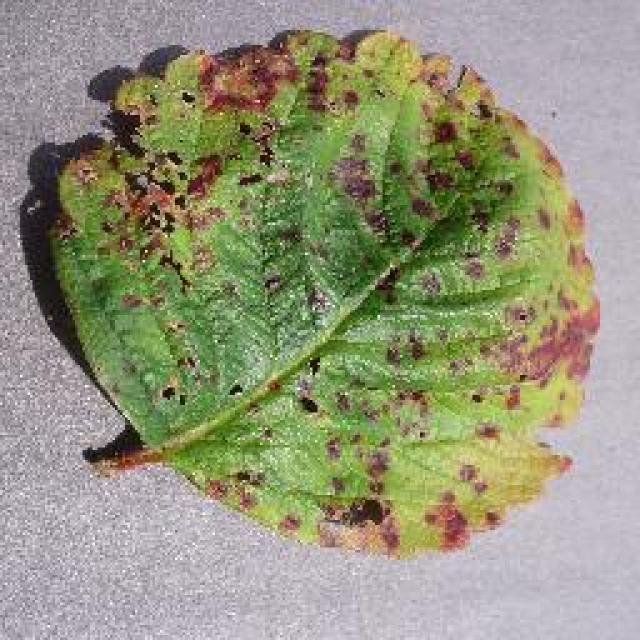Strawberry leaf scorch: (116, 53, 516, 490)
